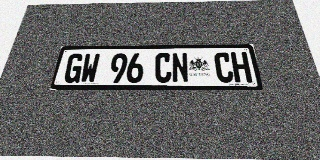6: (126, 53, 144, 83)
9: (109, 53, 128, 83)
C: (214, 52, 234, 83), (155, 53, 171, 83)
G: (63, 54, 85, 83)
H: (230, 52, 252, 83)
N: (172, 53, 189, 83)
W: (79, 53, 100, 83)
